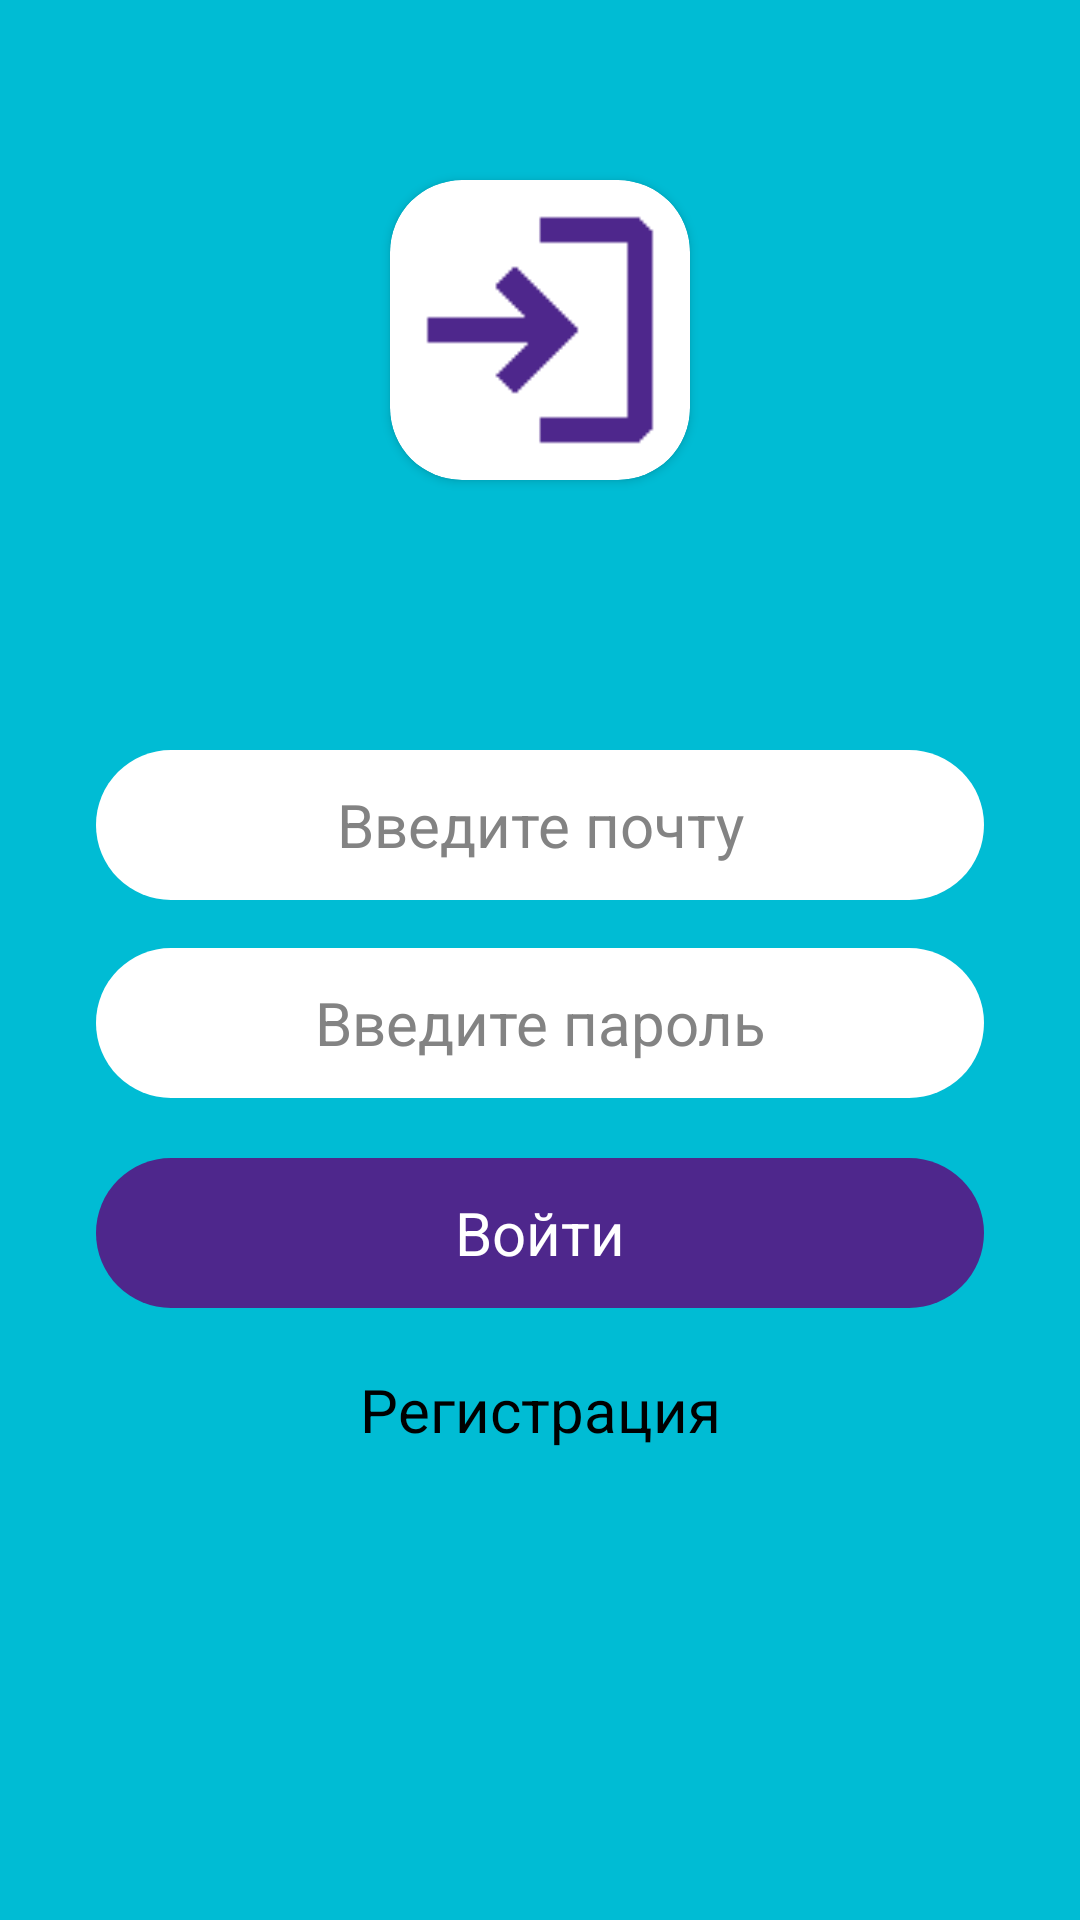

Where icons sit on this 1080 x 1920 app screen, as (x1, y1, x2, y2):
login: (390, 180, 690, 480)
